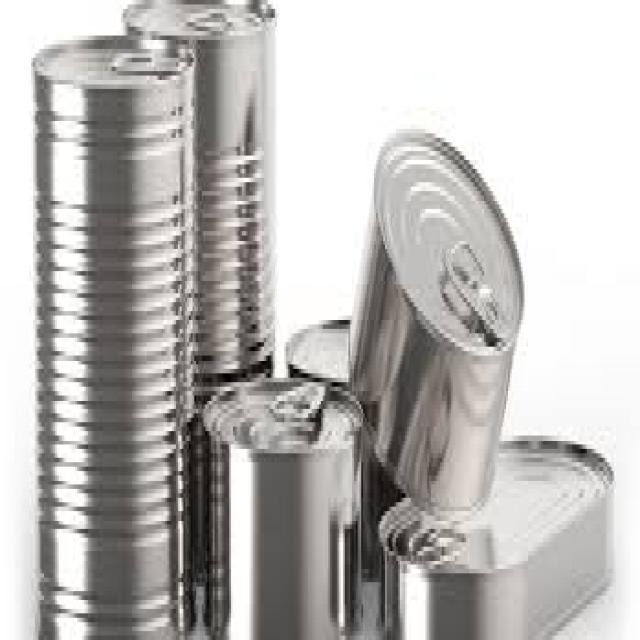recyclable: (31, 30, 200, 640), (120, 0, 278, 585), (345, 122, 525, 524), (378, 436, 613, 640), (201, 374, 362, 640)
